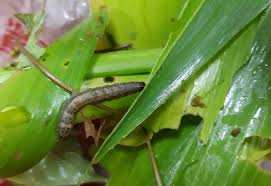Armyworm: (52, 71, 151, 147)
